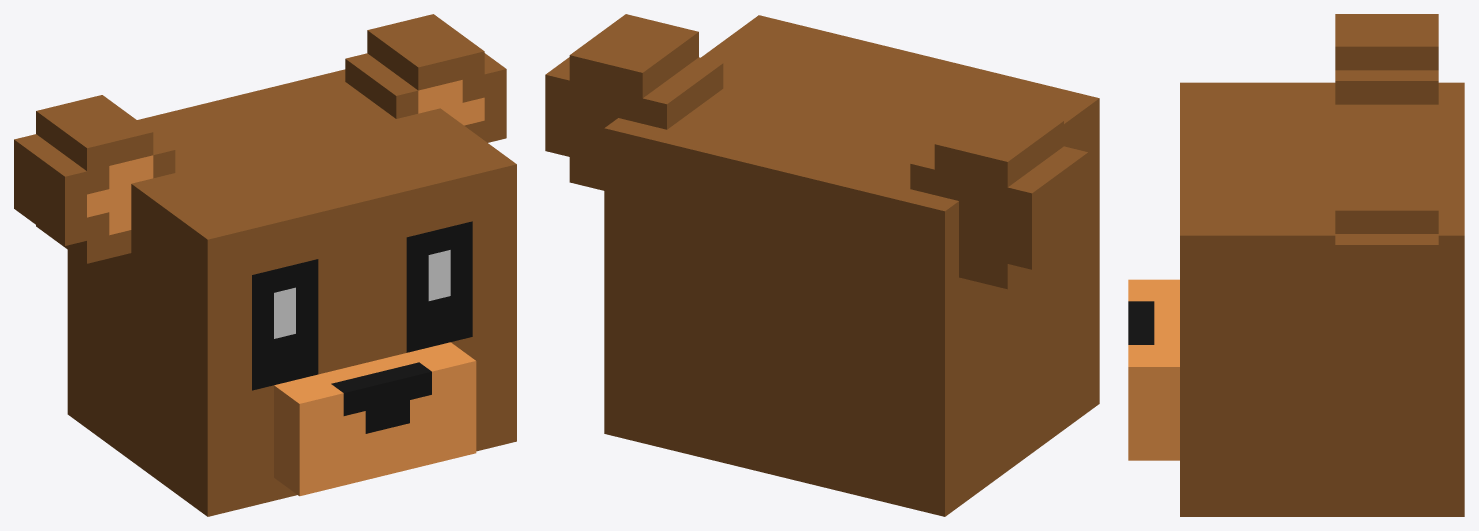
File: head.glb
3 views of the same model, side by side, from view 1: azimuth 30°, elevation 25°; view 2: azimuth 150°, elevation 25°; view 3: azimuth 270°, elevation 25° (orthographic). The views are drawn at different scales.
Parts seen in each view (by area): view 1: Node1; view 2: Node1; view 3: Node1.
Boxes of the visible parts, x1=… form: Node1: x1=14, y1=14, x2=516, y2=516; Node1: x1=545, y1=14, x2=1099, y2=516; Node1: x1=1128, y1=14, x2=1464, y2=516.
Bounding box in the file's own units: 2 × 1.4 × 1.3.
Materials: 1 (1 with a texture image).
